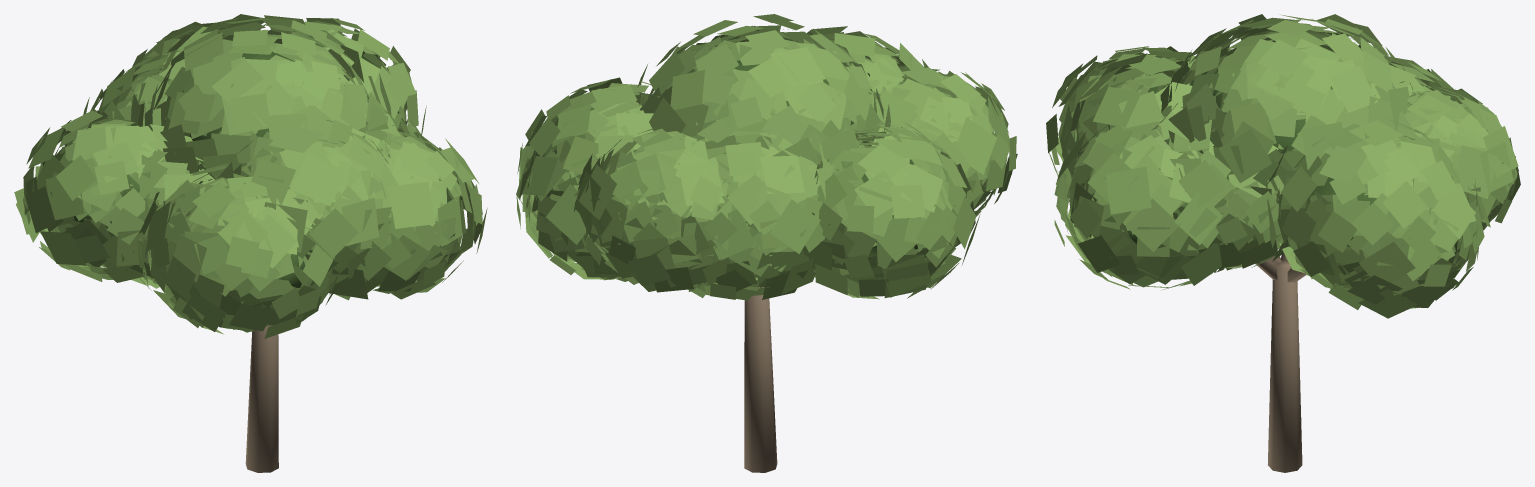
File: arbre_neem2.glb
3 views of the same model, side by side, from view 1: azimuth 30°, elevation 25°; view 2: azimuth 150°, elevation 25°; view 3: azimuth 270°, elevation 25° (orthographic).
Visible parts, largest first — view 1: arbre_neem2; view 2: arbre_neem2; view 3: arbre_neem2.
Boxes of the visible parts, box(x1,y1,x2,y2) form: arbre_neem2: box(14, 14, 487, 472); arbre_neem2: box(516, 14, 1017, 472); arbre_neem2: box(1046, 14, 1520, 472).
Size of the model in its own units: 8.72 by 8.95 by 8.78.
